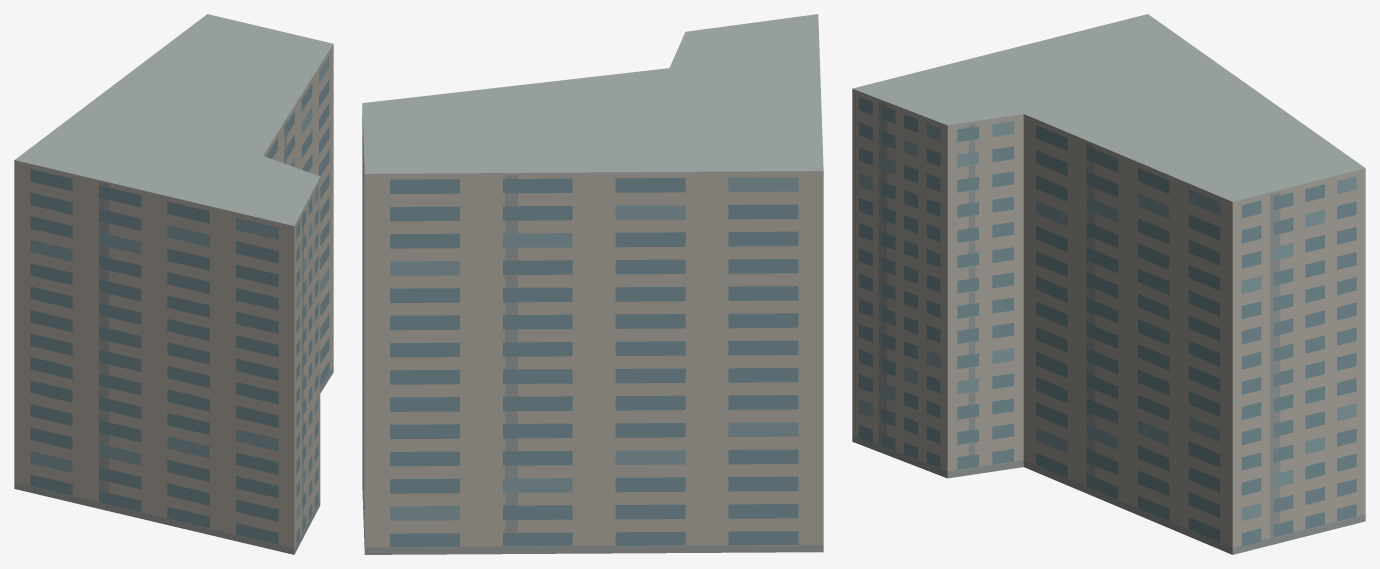
Rendered from residential-5a5a16a8-28d9-45c4-9d2a-e89e279e0c39.glb.
The picture shows the model from 3 angles, left to right: view 1: azimuth 30°, elevation 25°; view 2: azimuth 150°, elevation 25°; view 3: azimuth 270°, elevation 25°; orthographic projection. The views are drawn at different scales.
Visible parts, largest first — view 1: residential-5a5a16a8-28d9-45c4-9d2a-e89e279e0c39.tmp; view 2: residential-5a5a16a8-28d9-45c4-9d2a-e89e279e0c39.tmp; view 3: residential-5a5a16a8-28d9-45c4-9d2a-e89e279e0c39.tmp.
Part boxes in pixels (x1,y1,x2,y2): residential-5a5a16a8-28d9-45c4-9d2a-e89e279e0c39.tmp: (14, 14, 333, 554); residential-5a5a16a8-28d9-45c4-9d2a-e89e279e0c39.tmp: (362, 14, 823, 554); residential-5a5a16a8-28d9-45c4-9d2a-e89e279e0c39.tmp: (852, 14, 1365, 554).
Size of the model in its own units: 44.52 by 39 by 51.42.
